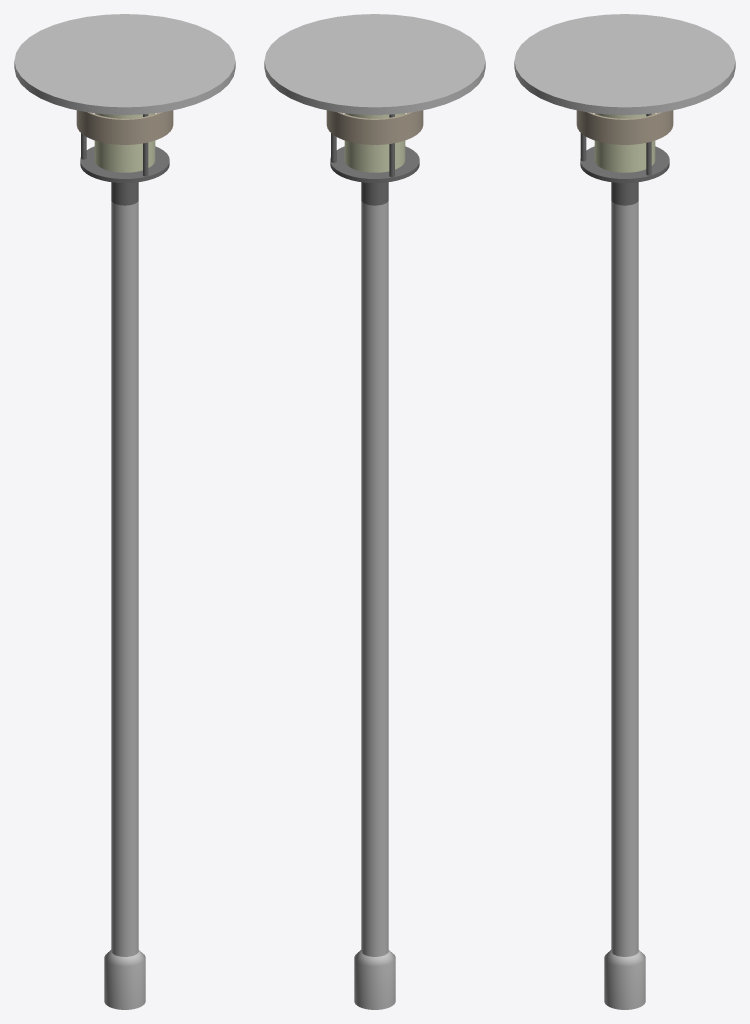
Rendered from tall_lamppost.fbx.
The picture shows the model from 3 angles, left to right: view 1: azimuth 30°, elevation 25°; view 2: azimuth 150°, elevation 25°; view 3: azimuth 270°, elevation 25°; orthographic projection.
Visible parts, largest first — view 1: pole, cap, base (×2), collar, light1; view 2: pole, cap, base (×2), collar, light1; view 3: pole, cap, base (×2), collar, light1.
Part boxes in pixels (bbox=[...]): pole: bbox=[111, 201, 138, 956]; cap: bbox=[14, 14, 235, 114]; base (×2): bbox=[80, 146, 169, 1009]; collar: bbox=[76, 110, 173, 144]; light1: bbox=[94, 113, 155, 172]; pole: bbox=[361, 201, 388, 956]; cap: bbox=[264, 14, 485, 114]; base (×2): bbox=[330, 146, 419, 1009]; collar: bbox=[326, 110, 423, 144]; light1: bbox=[344, 113, 405, 172]; pole: bbox=[611, 201, 638, 956]; cap: bbox=[514, 14, 735, 114]; base (×2): bbox=[580, 146, 669, 1009]; collar: bbox=[576, 110, 673, 144]; light1: bbox=[594, 113, 655, 172].
Bounding box in the file's own units: 0.8 × 3.76 × 0.8.
